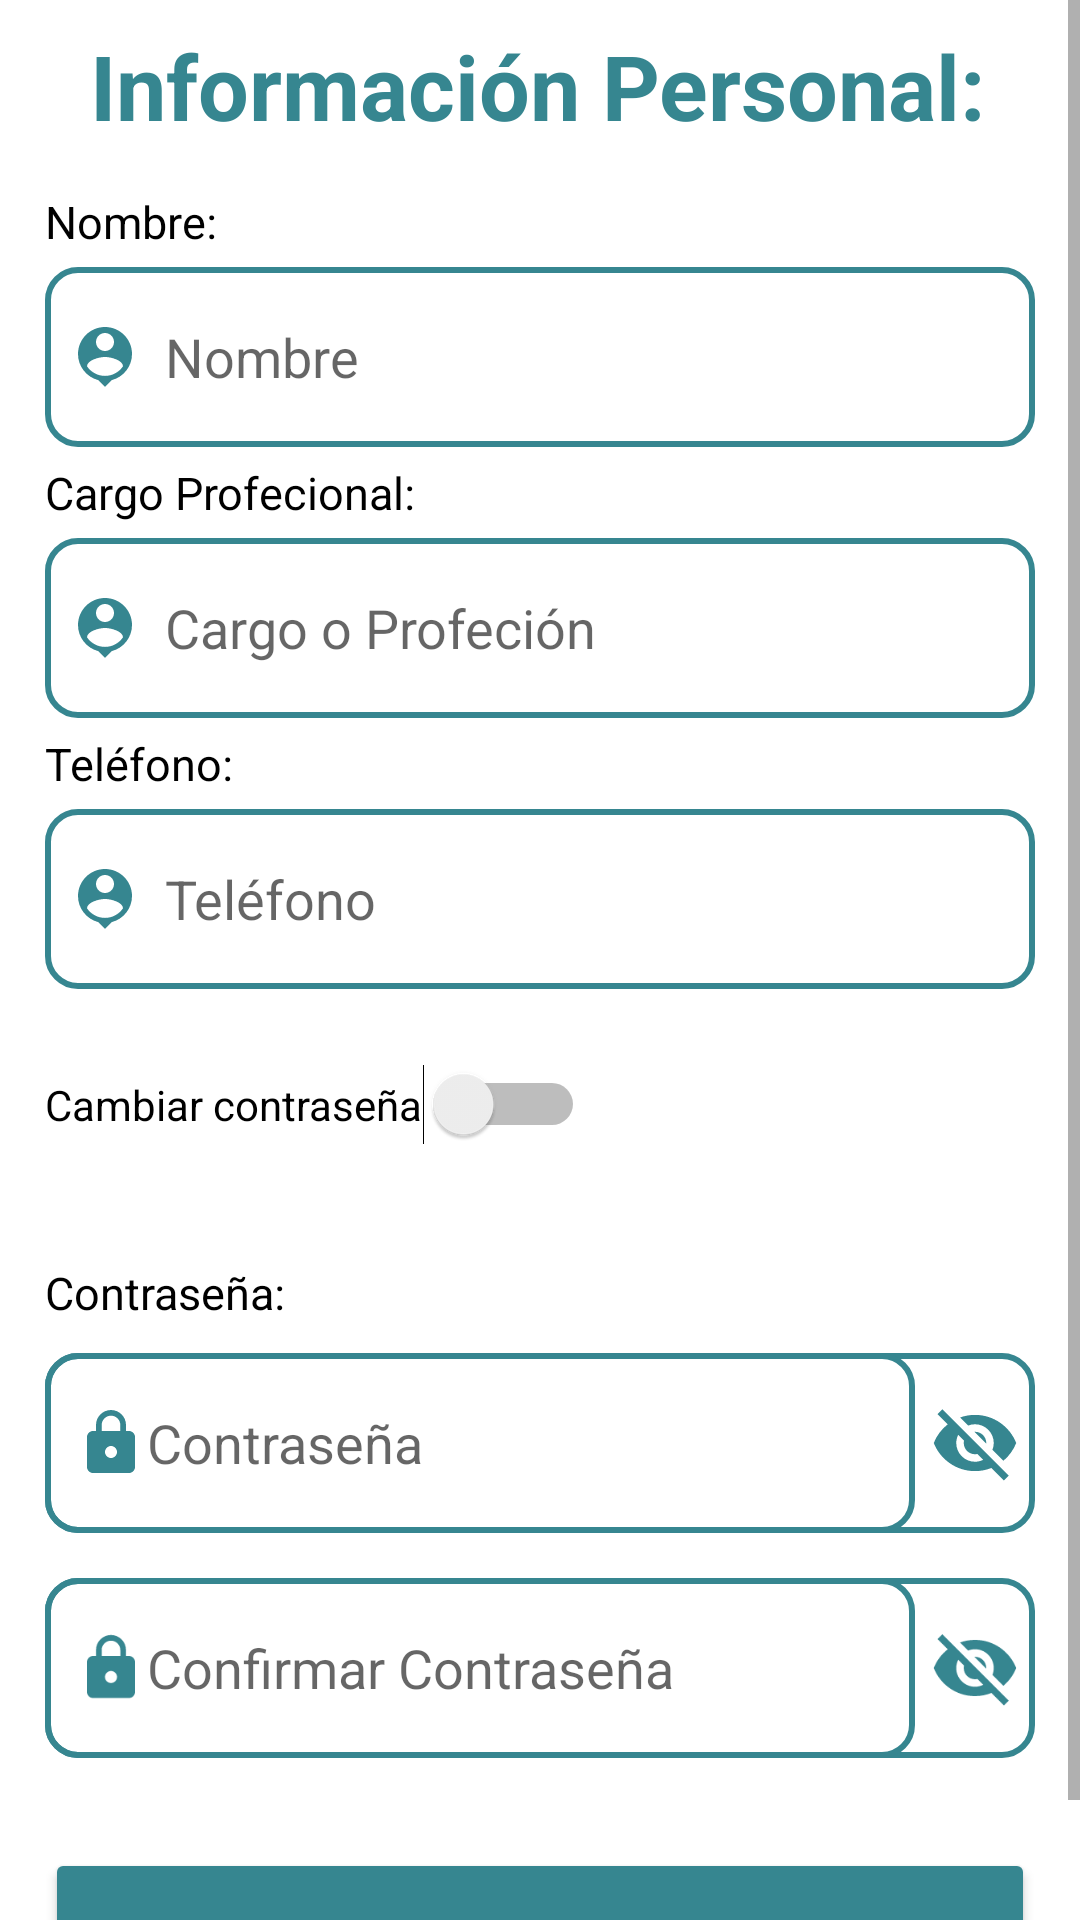

Screen size 1080px x 1920px. Icon name, then its center in pixels as point (x, y):
visibility off: point (975, 1445), point (975, 1670)
